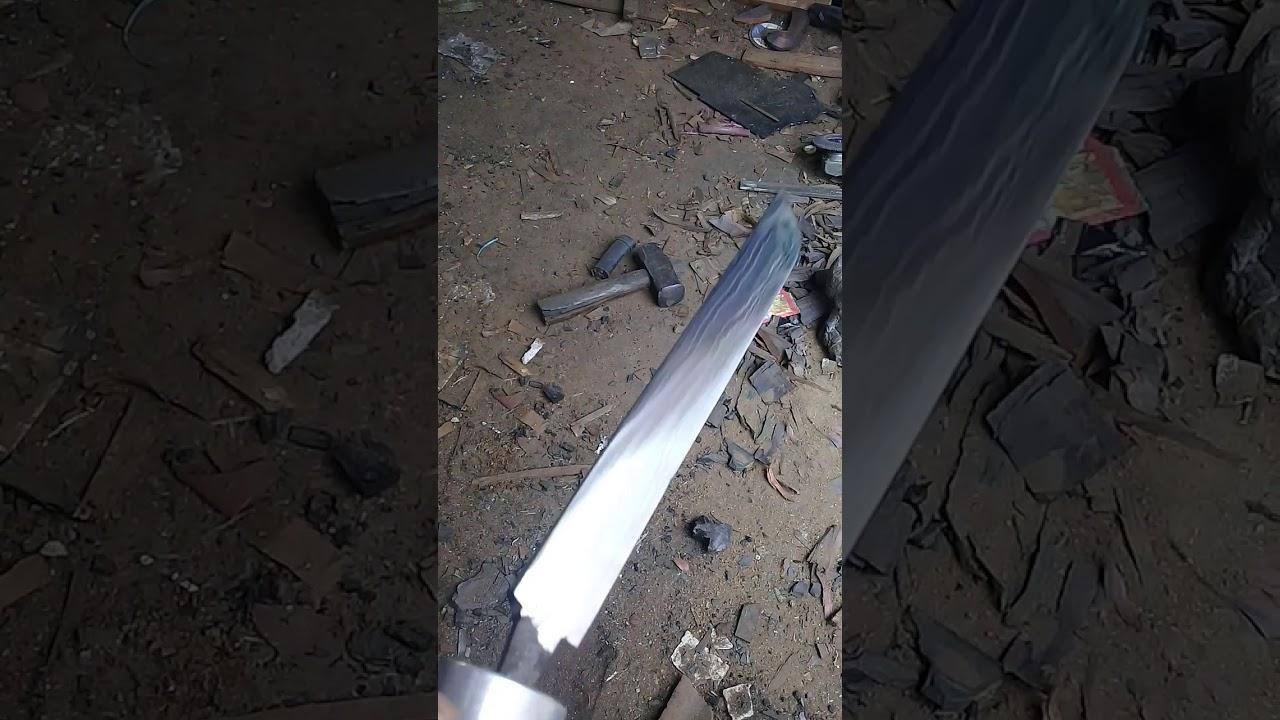facao: (464, 208, 792, 720)
